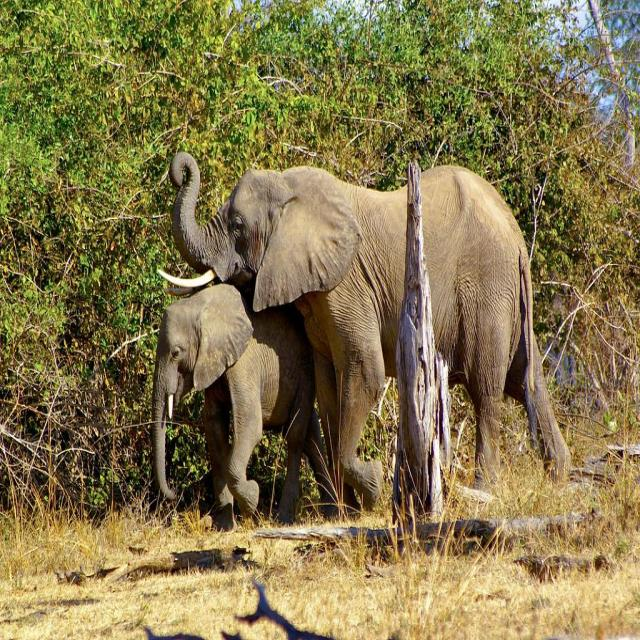Elephant: (145, 154, 570, 528), (144, 281, 342, 522)
